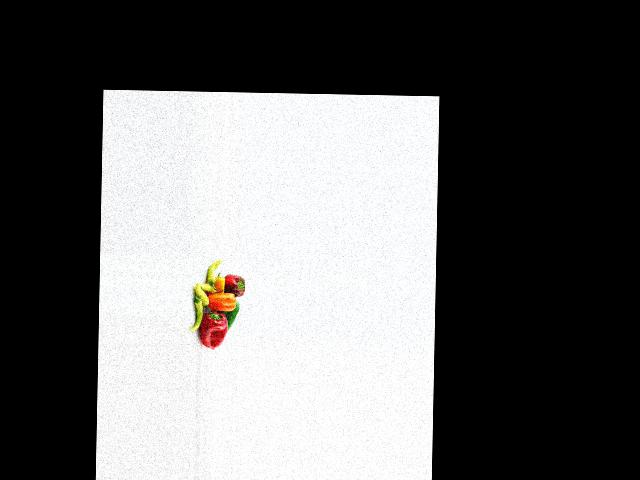bell_pepper: (190, 292, 202, 334)
